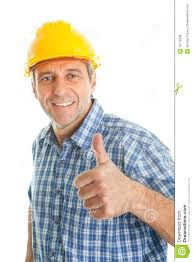Person_wearing_helmet: (24, 14, 100, 90)
